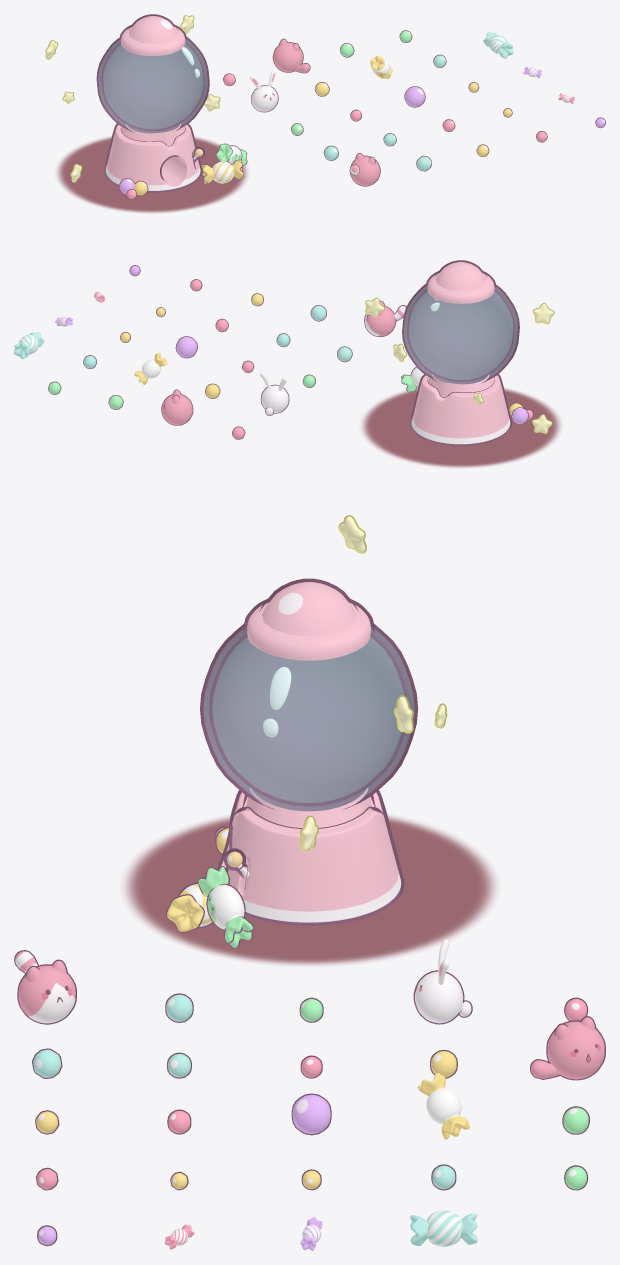
The model's file is gumball_separated.glb.
3 renders of one model, top to bottom at view 1: azimuth 30°, elevation 25°; view 2: azimuth 150°, elevation 25°; view 3: azimuth 270°, elevation 25°, orthographic. The views are drawn at different scales.
Parts seen in each view (by area): view 1: container, floor, gumball base, container cap, racoon 2, stars, candy.002, racoon 1, bunny, candy, candy.001, ball.006 (+1 smaller); view 2: container, floor, gumball base, container cap, stars, racoon 2, racoon 1, bunny, candy, candy.005, ball.006, candy.001; view 3: container, floor, gumball base, container cap, racoon 2, racoon 1, bunny, candy.001, stars, candy, candy.005, candy.002 (+2 smaller).
Part boxes in pixels (x1,y1,x2,y2): container: (96, 37, 209, 133); floor: (56, 136, 247, 212); gumball base: (104, 123, 201, 192); container cap: (119, 14, 186, 55); racoon 2: (272, 38, 310, 73); stars: (45, 15, 220, 182); candy.002: (201, 159, 244, 184); racoon 1: (349, 153, 380, 186); bunny: (250, 70, 278, 112); candy: (483, 32, 513, 58); candy.001: (215, 143, 247, 165); ball.006: (404, 86, 425, 107); container: (402, 284, 519, 384); floor: (361, 388, 560, 467); gumball base: (410, 374, 511, 445); container cap: (425, 260, 496, 303); stars: (365, 297, 554, 433); racoon 2: (161, 389, 193, 425); racoon 1: (364, 300, 406, 336); bunny: (260, 372, 289, 415); candy: (14, 332, 44, 358); candy.005: (134, 352, 167, 384); ball.006: (175, 336, 197, 358); candy.001: (401, 367, 423, 392); container: (200, 624, 418, 811); floor: (124, 815, 496, 965); gumball base: (217, 787, 404, 925); container cap: (243, 578, 374, 660); racoon 2: (530, 1016, 605, 1080); racoon 1: (14, 950, 76, 1024); bunny: (413, 939, 472, 1024); candy.001: (197, 866, 254, 948); stars: (300, 515, 447, 851); candy: (410, 1210, 477, 1246); candy.005: (417, 1073, 469, 1139); candy.002: (166, 877, 212, 932).
Bounding box in the file's own units: 82.76 × 25.37 × 44.77.
Materials: 6 (3 with a texture image).
